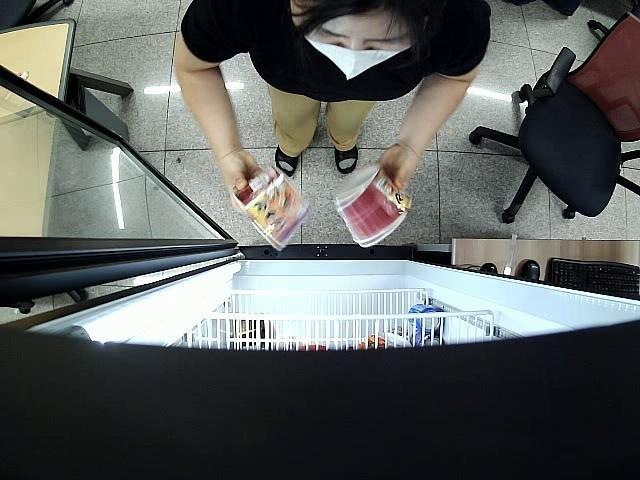05_nuguri_L: (232, 164, 312, 252), (331, 165, 412, 248)
